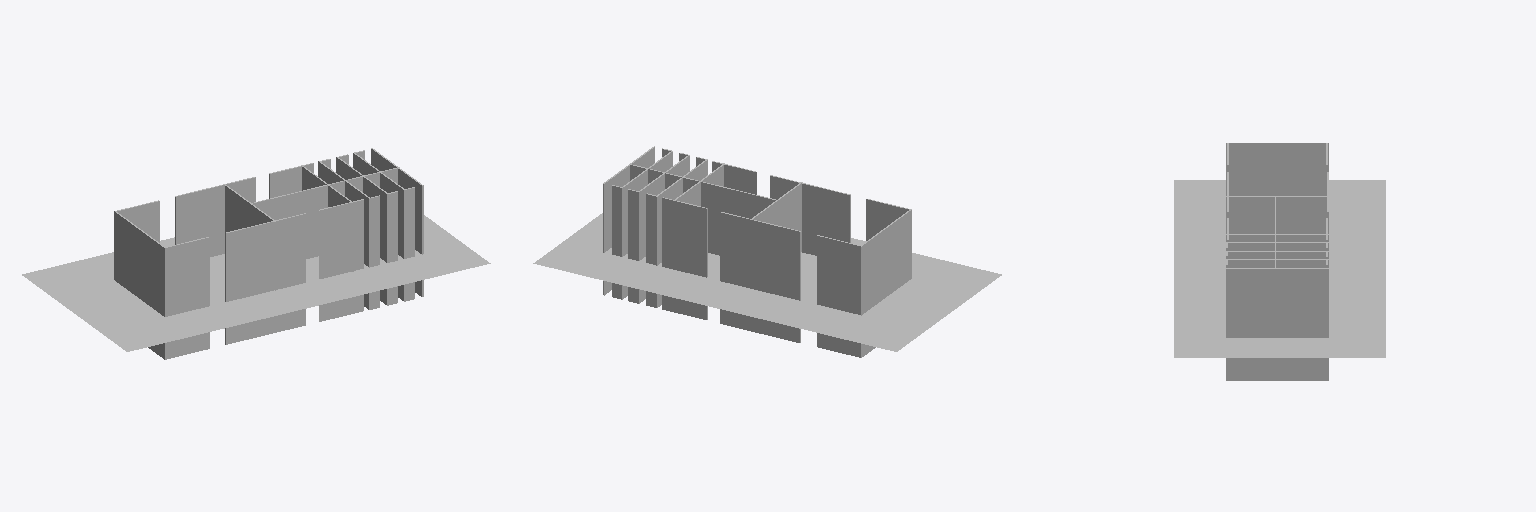
The model's file is MAPMAPMAP.obj.
The picture shows the model from 3 angles: view 1: azimuth 30°, elevation 25°; view 2: azimuth 150°, elevation 25°; view 3: azimuth 270°, elevation 25°; orthographic projection.
Visible parts, largest first — view 1: pPlane1, pCube2, pCube5, pCube19, pCube3, pCube1, pCube20, pCube9, pCube11, pCube6, pCube10, pCube8 (+6 smaller); view 2: pPlane1, pCube1, pCube5, pCube12, pCube4, pCube2, pCube20, pCube11, pCube6, pCube9, pCube10, pCube8 (+6 smaller); view 3: pPlane1, pCube11, pCube5, pCube6, pCube8, pCube10, pCube7, pCube9.
Part boxes in pixels (bbox=[...]): pPlane1: bbox=[22, 215, 490, 351]; pCube2: bbox=[225, 213, 305, 344]; pCube5: bbox=[114, 211, 166, 359]; pCube19: bbox=[319, 199, 363, 321]; pCube3: bbox=[166, 237, 209, 358]; pCube1: bbox=[175, 177, 255, 256]; pCube20: bbox=[250, 167, 399, 258]; pCube9: bbox=[336, 157, 388, 305]; pCube11: bbox=[371, 148, 423, 296]; pCube6: bbox=[225, 185, 275, 332]; pCube10: bbox=[353, 152, 405, 301]; pCube8: bbox=[318, 161, 370, 309]; pPlane1: bbox=[533, 213, 1001, 351]; pCube1: bbox=[720, 212, 800, 342]; pCube5: bbox=[860, 209, 911, 357]; pCube12: bbox=[662, 197, 707, 319]; pCube4: bbox=[817, 235, 860, 357]; pCube2: bbox=[770, 175, 850, 255]; pCube20: bbox=[630, 164, 778, 255]; pCube11: bbox=[603, 146, 654, 295]; pCube6: bbox=[751, 182, 802, 251]; pCube9: bbox=[638, 155, 689, 303]; pCube10: bbox=[621, 151, 672, 299]; pCube8: bbox=[656, 159, 707, 307]; pPlane1: bbox=[1174, 180, 1385, 357]; pCube11: bbox=[1226, 268, 1328, 380]; pCube5: bbox=[1226, 143, 1328, 195]; pCube6: bbox=[1226, 196, 1328, 233]; pCube8: bbox=[1226, 242, 1328, 250]; pCube10: bbox=[1226, 259, 1328, 267]; pCube7: bbox=[1226, 234, 1328, 241]; pCube9: bbox=[1226, 251, 1328, 258].
Bounding box in the file's own units: 44.54 × 13.07 × 22.49.